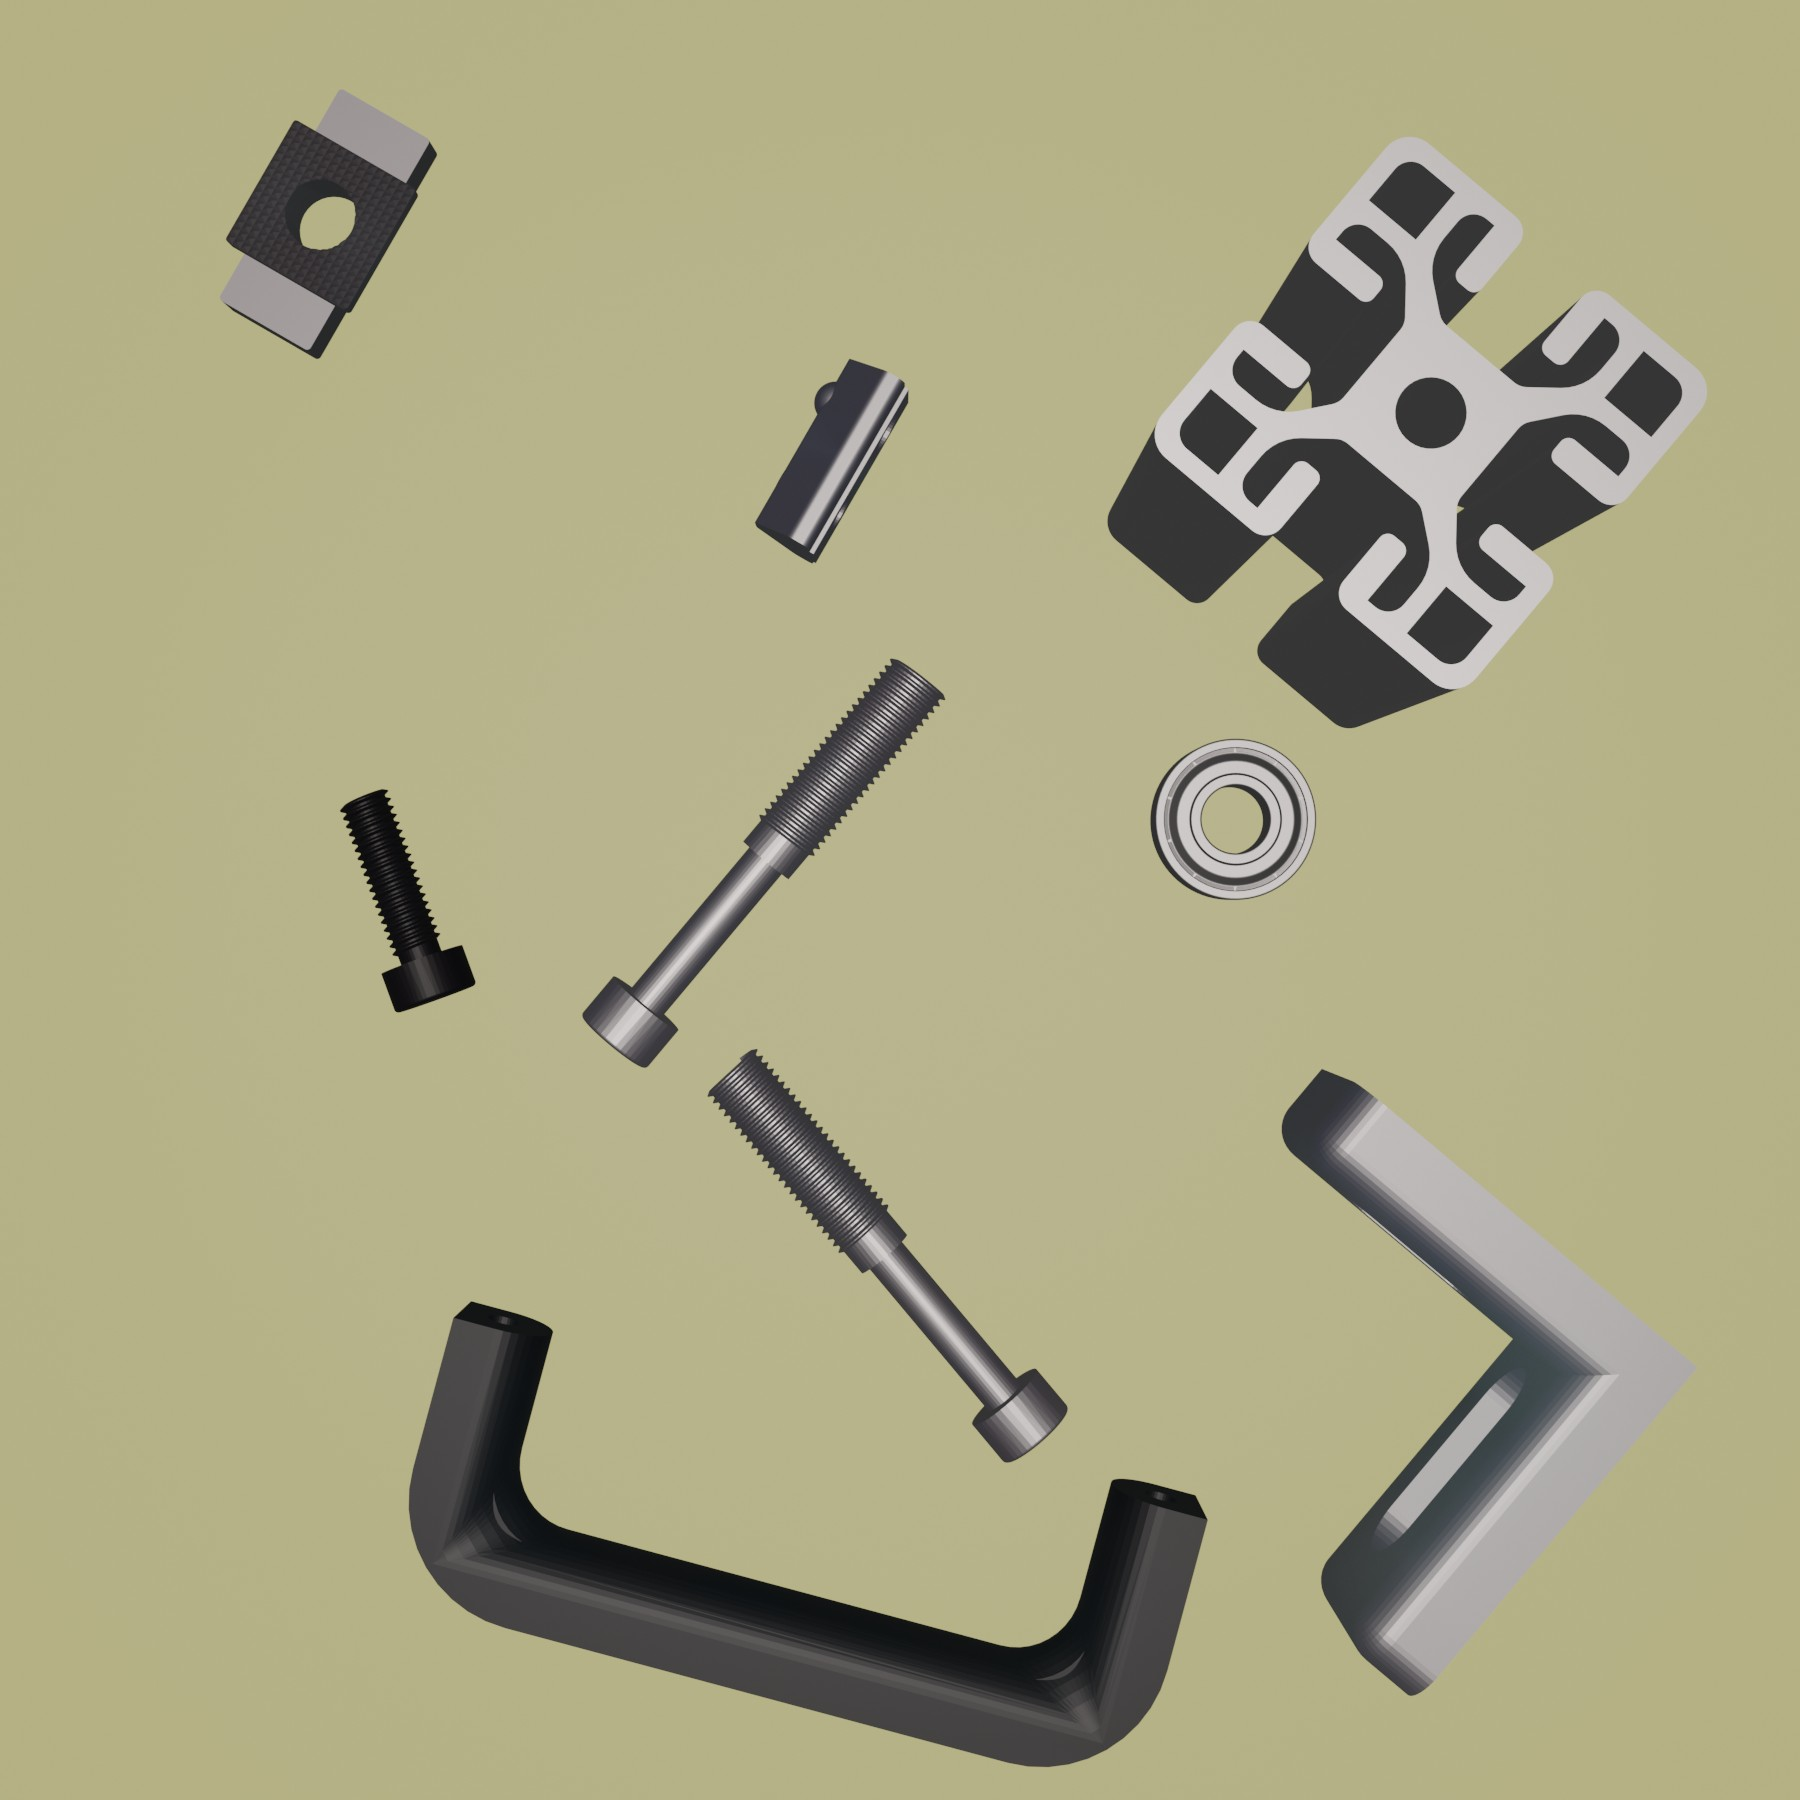Aluminium Extension: (1104, 132, 1709, 730)
Ball Bearing: (1146, 735, 1319, 903)
Multiwinkel: (1279, 1066, 1698, 1699)
Pull Handle: (405, 1299, 1208, 1769)
Shoulder Socket Head Cap Screw: (579, 653, 946, 1070), (704, 1047, 1070, 1464)
Socket Head Cap Screw: (336, 781, 478, 1019)
T Nut Square: (218, 84, 440, 361)
T Spring Nut: (752, 354, 912, 569)
